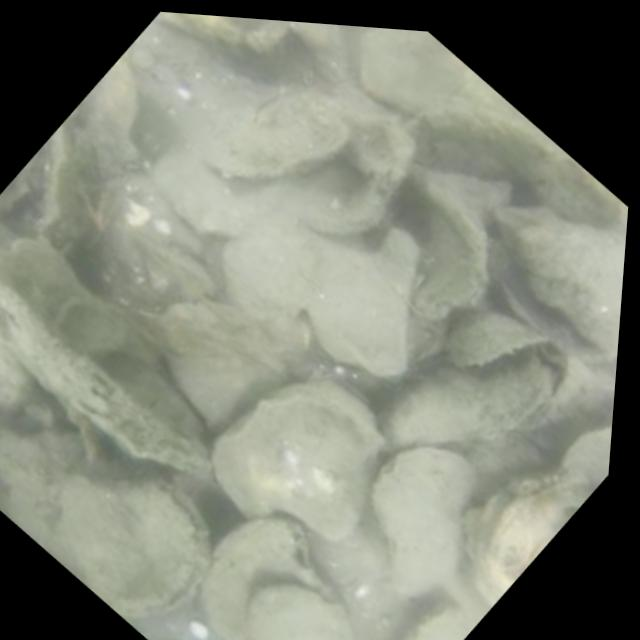Oyster-Closed: (376, 342, 582, 454), (474, 469, 590, 605), (209, 514, 326, 640)
Oyster-Indeterminate: (212, 384, 386, 542), (493, 199, 627, 360), (364, 443, 486, 607), (166, 71, 352, 178), (62, 478, 204, 609), (158, 298, 291, 426), (355, 28, 470, 110), (241, 584, 357, 640), (0, 315, 34, 410), (564, 427, 612, 491), (410, 609, 476, 640)
